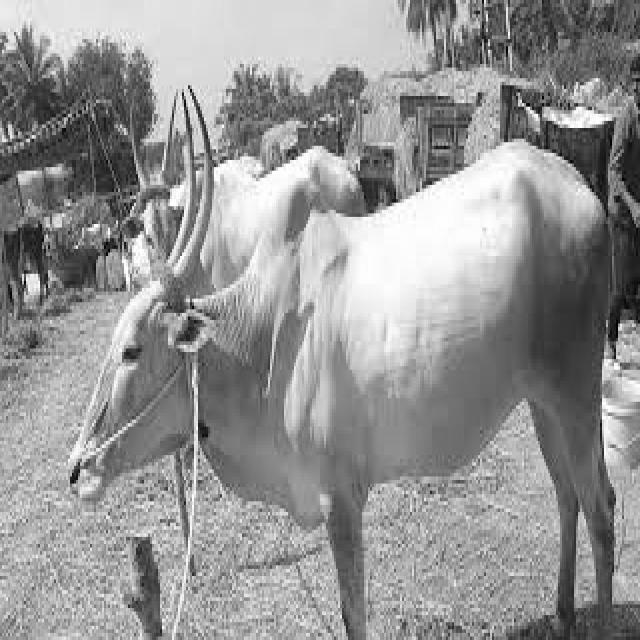Cow: (73, 186, 581, 550)
